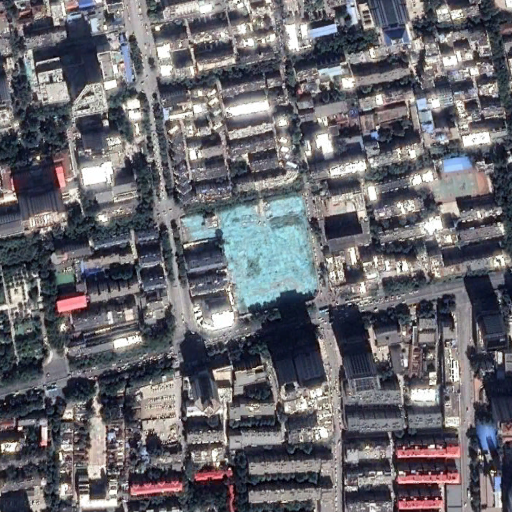cw: (179, 193, 323, 314)
